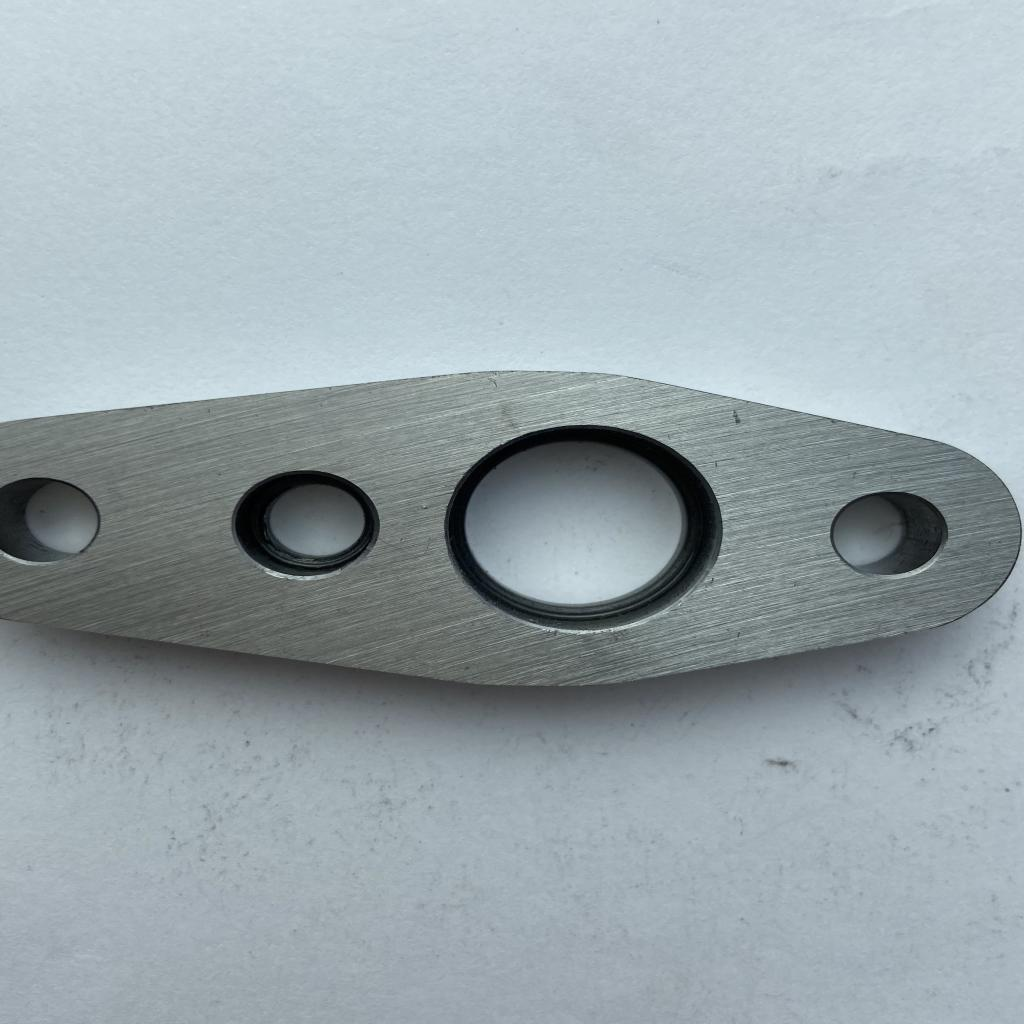chap: (542, 628, 568, 639), (416, 502, 436, 512)
lines: (725, 408, 745, 429)
